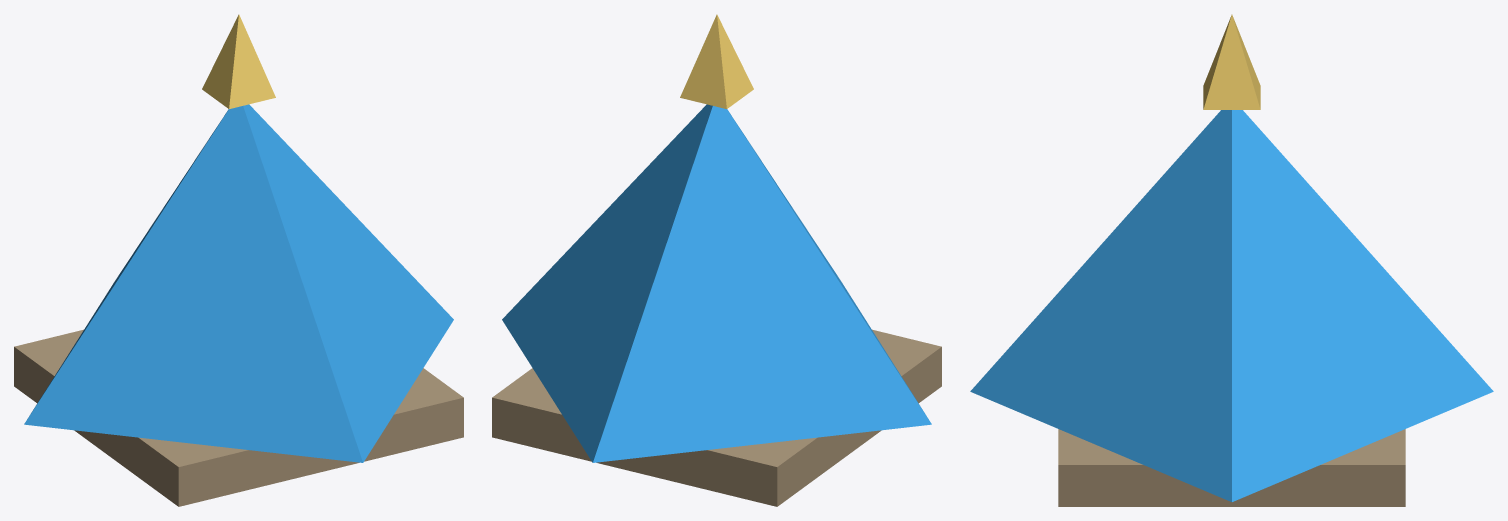
File: city-module-roof-tile-lod1.glb
3 renders of one model, left to right at view 1: azimuth 30°, elevation 25°; view 2: azimuth 150°, elevation 25°; view 3: azimuth 270°, elevation 25°, orthographic. The views are drawn at different scales.
Visible parts, largest first — view 1: module_roof_tile_blue_pyramid, module_roof_tile_stone_socket, module_roof_tile_gold_tip; view 2: module_roof_tile_blue_pyramid, module_roof_tile_stone_socket, module_roof_tile_gold_tip; view 3: module_roof_tile_blue_pyramid, module_roof_tile_stone_socket, module_roof_tile_gold_tip.
Part boxes in pixels (x1=…): module_roof_tile_blue_pyramid: x1=24, y1=104, x2=453, y2=462; module_roof_tile_stone_socket: x1=14, y1=329, x2=463, y2=506; module_roof_tile_gold_tip: x1=202, y1=14, x2=275, y2=108; module_roof_tile_blue_pyramid: x1=502, y1=104, x2=931, y2=462; module_roof_tile_stone_socket: x1=492, y1=329, x2=941, y2=506; module_roof_tile_gold_tip: x1=680, y1=14, x2=753, y2=108; module_roof_tile_blue_pyramid: x1=970, y1=110, x2=1493, y2=501; module_roof_tile_stone_socket: x1=1058, y1=429, x2=1405, y2=506; module_roof_tile_gold_tip: x1=1203, y1=14, x2=1260, y2=109.
Size of the model in its own units: 0.4525 by 0.4 by 0.4525.
